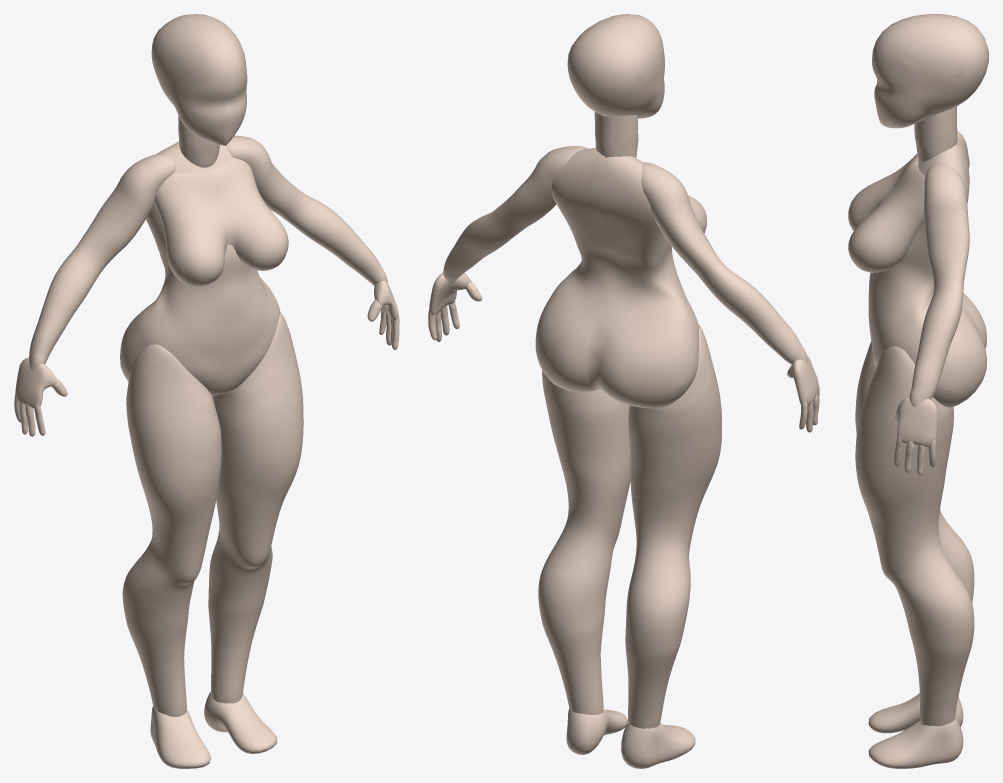
Rendered from curvy-light.glb.
3 renders of one model, left to right at view 1: azimuth 30°, elevation 25°; view 2: azimuth 150°, elevation 25°; view 3: azimuth 270°, elevation 25°, orthographic.
Parts seen in each view (by area): view 1: FEMALE BODY TYPE 4_FEMALE BODY TYPE 4_0; view 2: FEMALE BODY TYPE 4_FEMALE BODY TYPE 4_0; view 3: FEMALE BODY TYPE 4_FEMALE BODY TYPE 4_0.
Part boxes in pixels (x1,y1,x2,y2): FEMALE BODY TYPE 4_FEMALE BODY TYPE 4_0: (14, 14, 399, 768); FEMALE BODY TYPE 4_FEMALE BODY TYPE 4_0: (428, 14, 819, 768); FEMALE BODY TYPE 4_FEMALE BODY TYPE 4_0: (848, 14, 988, 768).
Size of the model in its own units: 0.8975 by 1.66 by 0.29.
